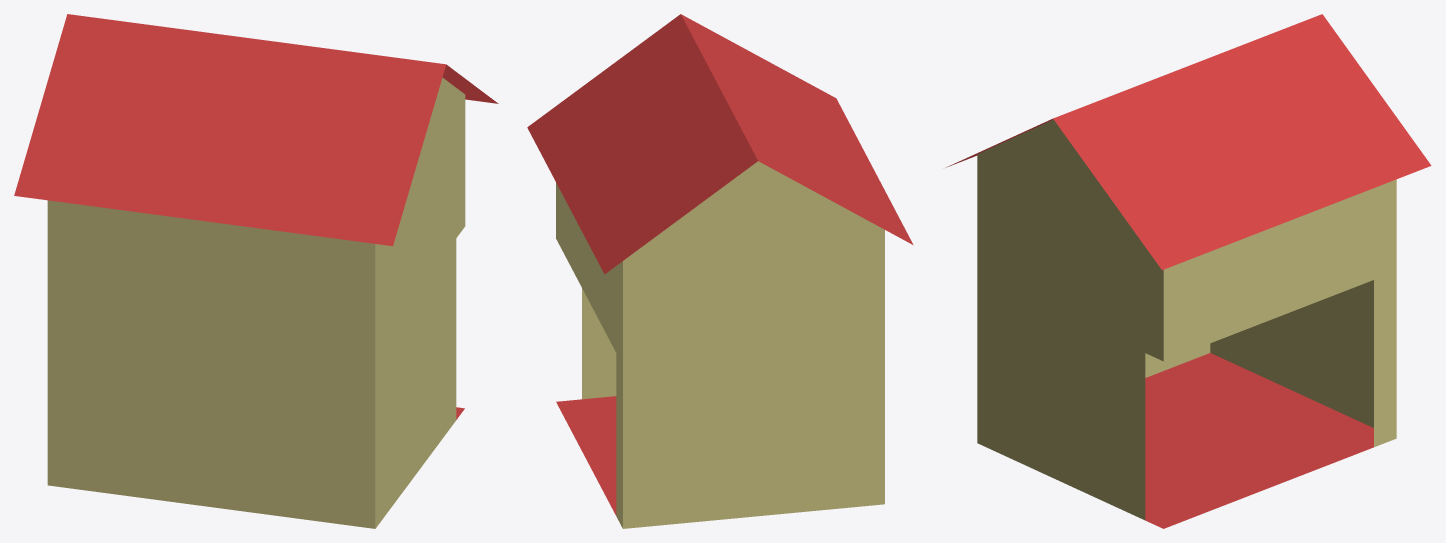
The picture shows the model from 3 angles, left to right: view 1: azimuth 30°, elevation 25°; view 2: azimuth 150°, elevation 25°; view 3: azimuth 270°, elevation 25°; orthographic projection. The views are drawn at different scales.
Size of the model in its own units: 14.73 by 14.81 by 12.53.
